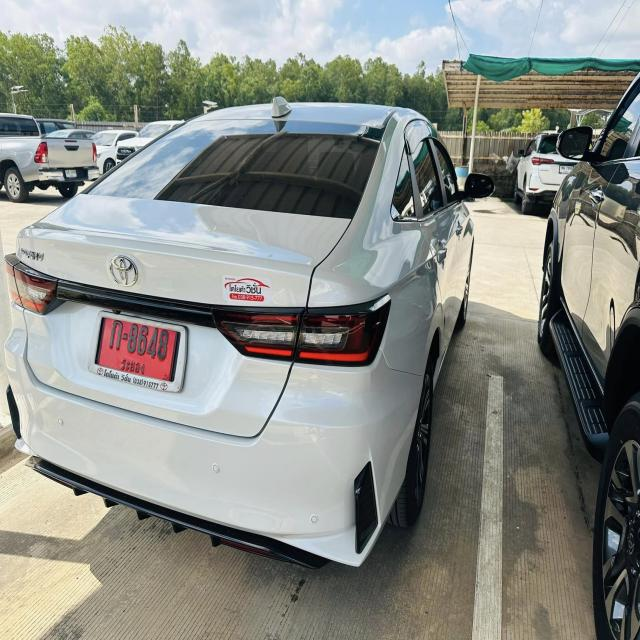license_plate: (85, 308, 193, 401)
